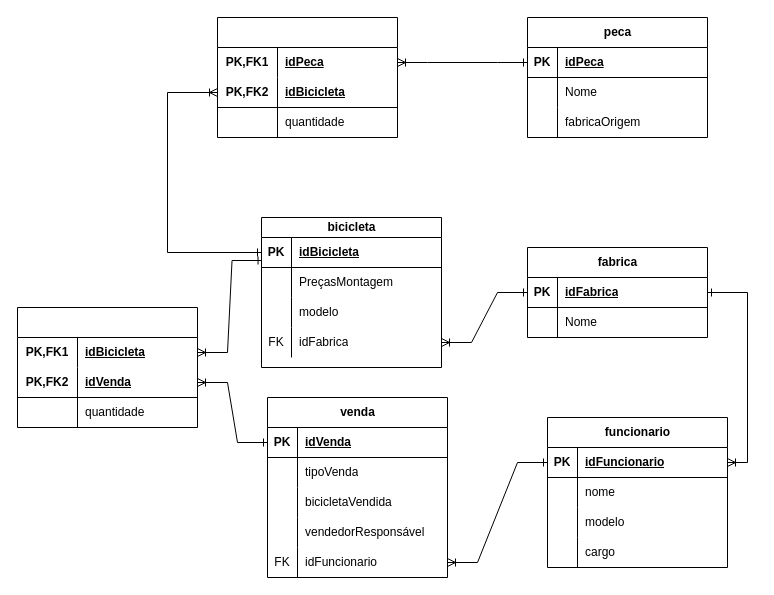
Some shapes in this 774 by 595 pixel diagram are drawn without their labels. The shapes that lost their labels are listed below. From the top down, each one's box as (x1, y1, x2, y2) in pixels, then its label:
(216, 16, 398, 138): bicicleta_pecas
(16, 306, 198, 428): venda_bicicleta
